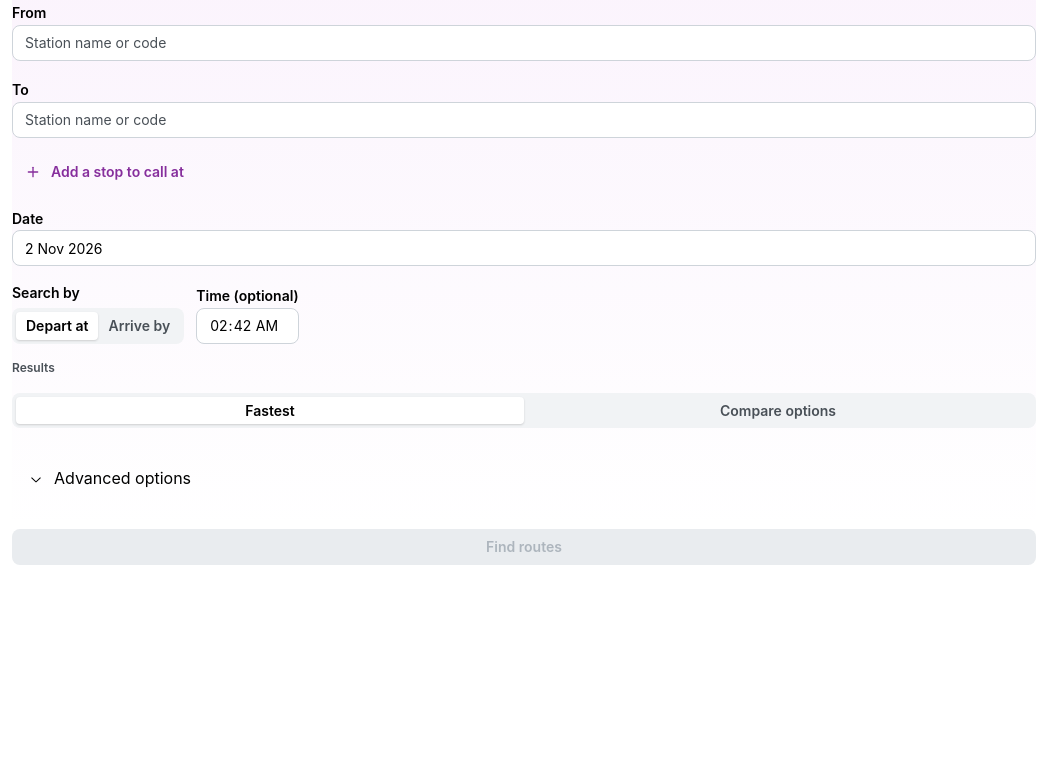
Test case: PlanTripFlow › says which constraint left a segment with no itineraries
The image size is (1048, 768).
Type "EUS" into the dropdown labelled "From". click: x=524, y=43
box: x1=12 y1=25 x2=1036 y2=61
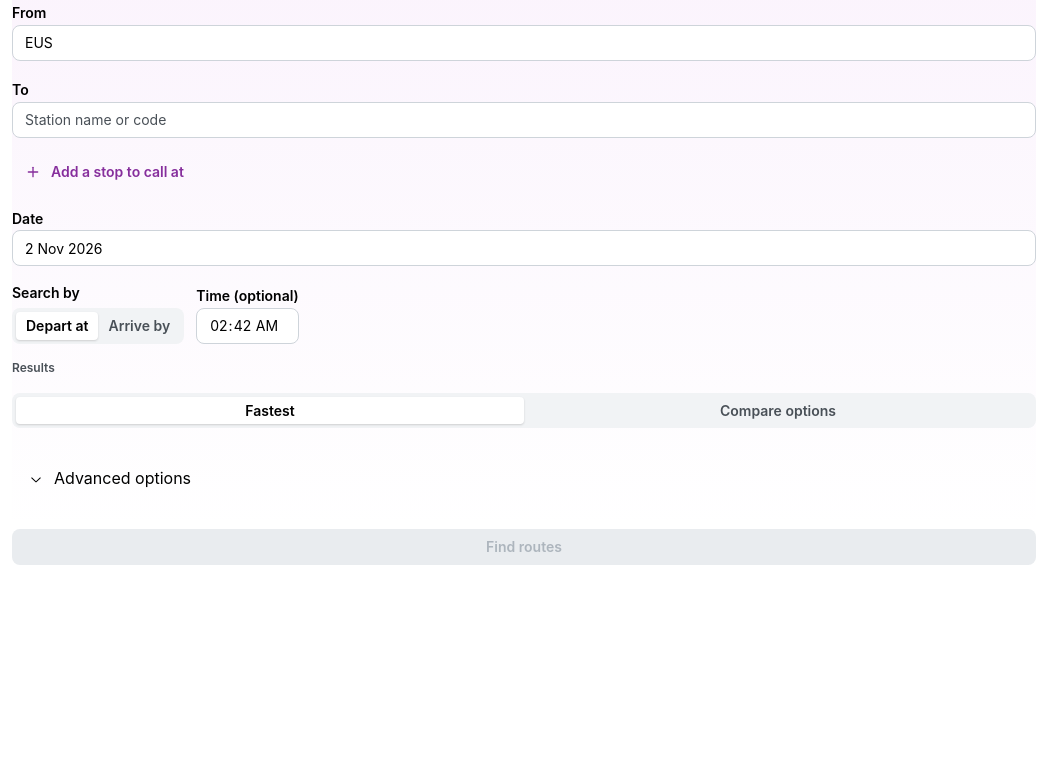
Type "MKC" into the dropdown labelled "To". click: x=524, y=120
box: x1=12 y1=102 x2=1036 y2=138
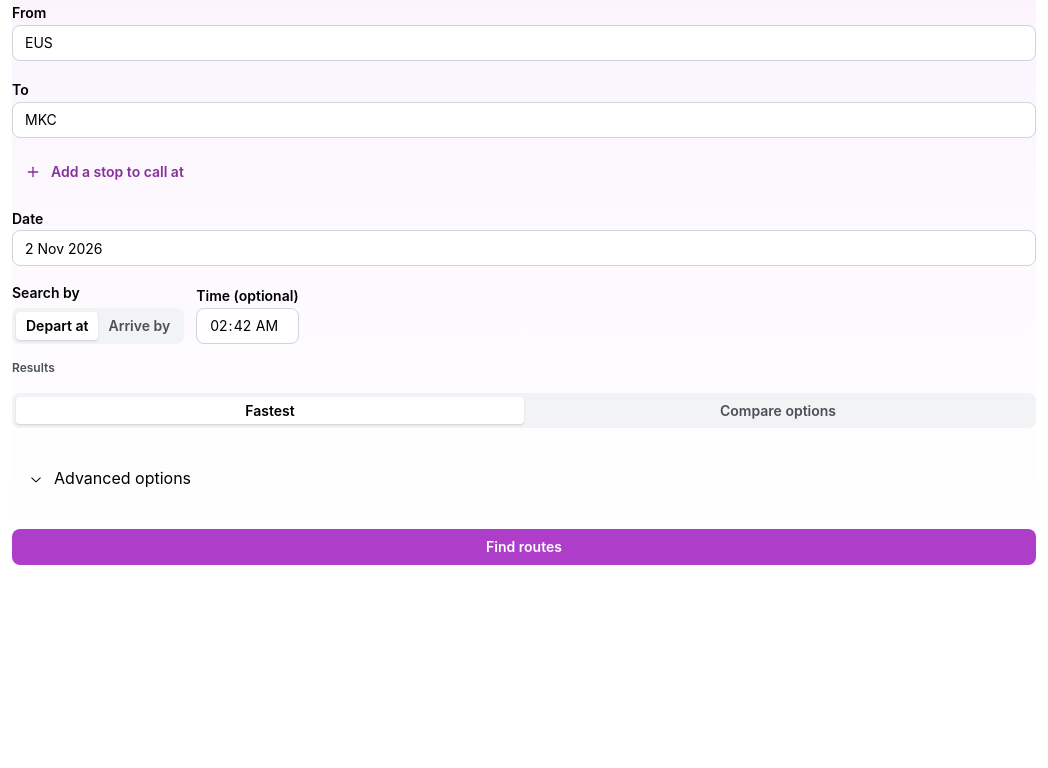
Click the button "Find routes". click: x=524, y=547
box: x1=12 y1=529 x2=1036 y2=565
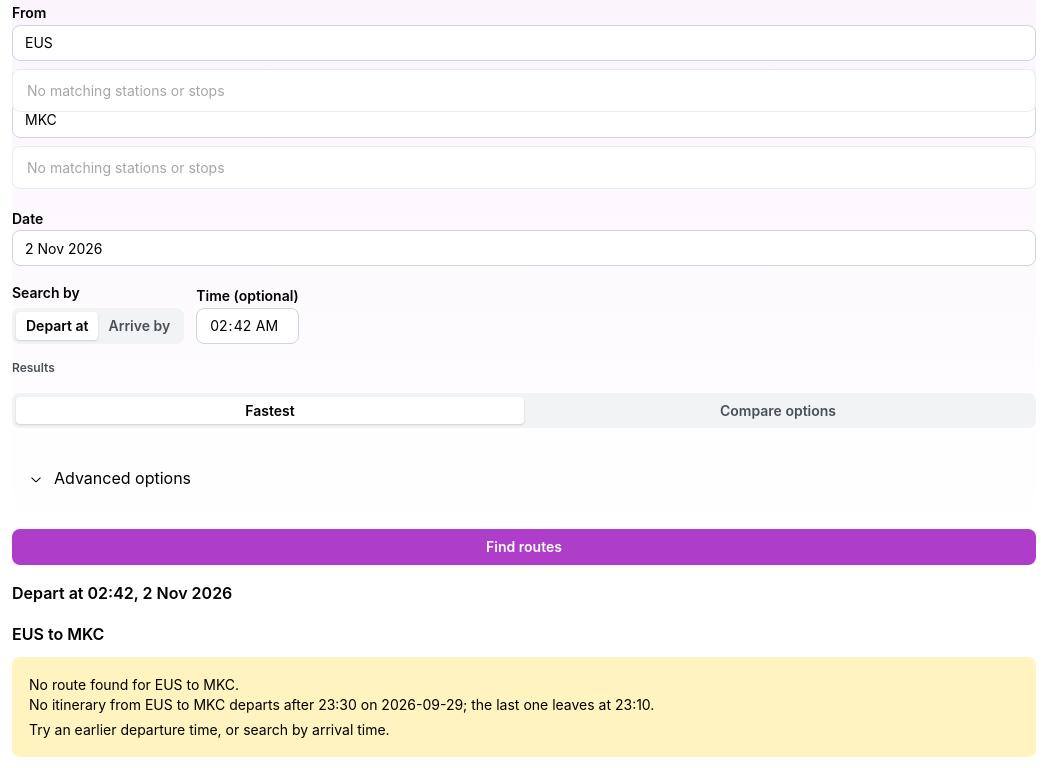
Now the text "the last one leaves at 23:10" is shown, box x1=29 y1=696 x2=654 y2=713
